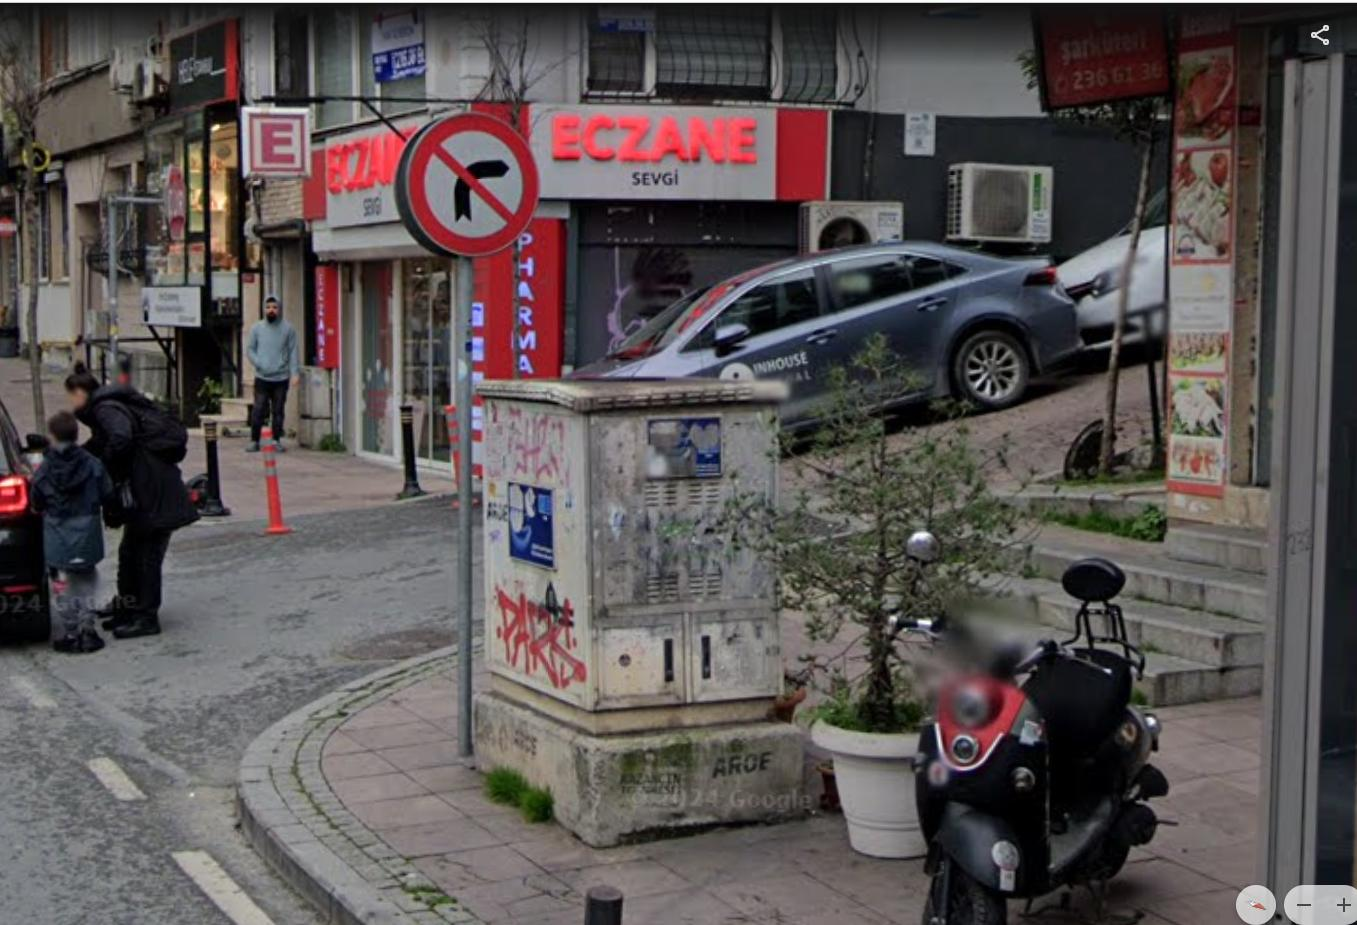rightturnsareforbidden: (386, 99, 548, 260)
